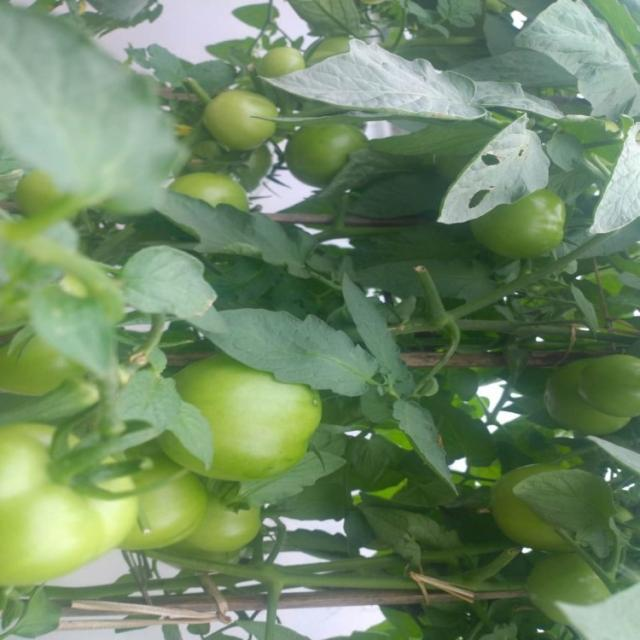tomato: (1, 421, 148, 586), (146, 357, 336, 482), (129, 452, 228, 553), (189, 87, 313, 158), (484, 464, 582, 551), (180, 478, 287, 554), (535, 358, 640, 434), (284, 109, 374, 186), (474, 198, 572, 265), (527, 543, 608, 608), (177, 169, 267, 220), (571, 348, 640, 411), (250, 39, 315, 87)
